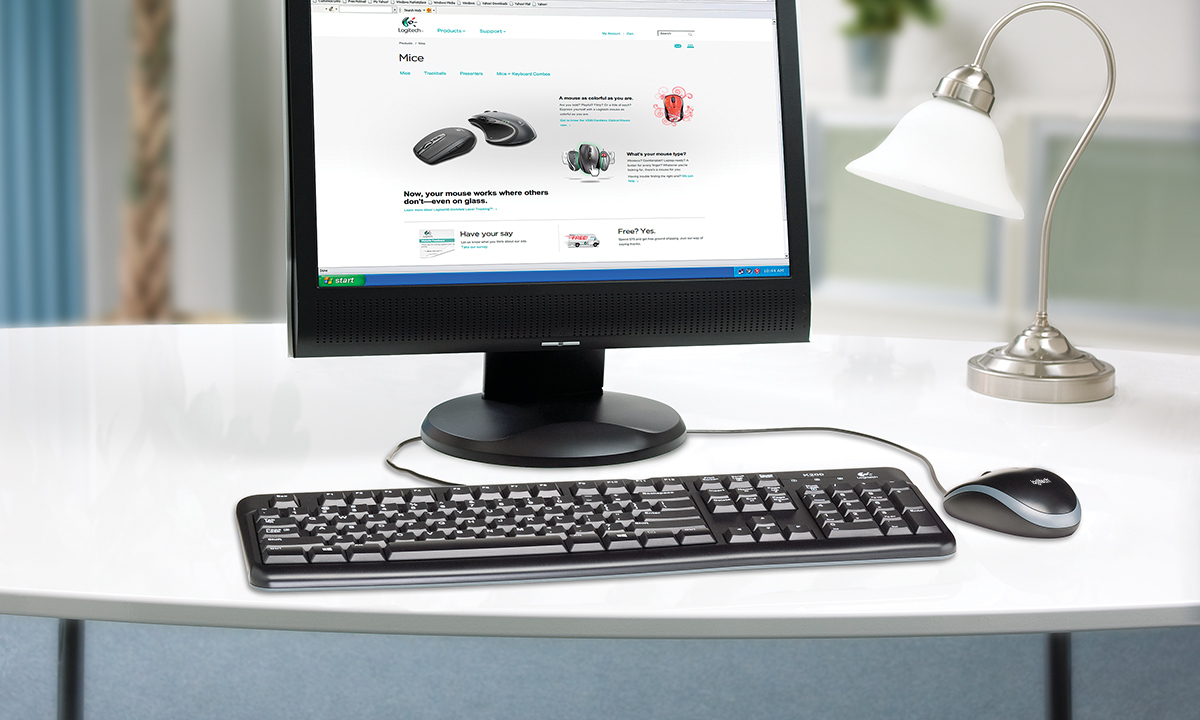keyboard: (214, 463, 962, 608)
monitor: (233, 1, 850, 469)
mouse: (938, 449, 1106, 559)
